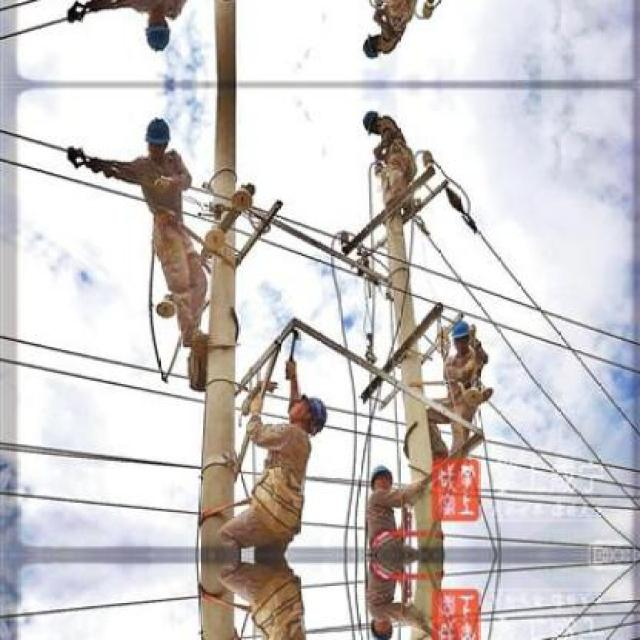helmet: (283, 389, 335, 433), (140, 116, 171, 159), (140, 11, 171, 54), (368, 462, 392, 496), (358, 29, 384, 60), (452, 319, 474, 355), (358, 110, 384, 140), (368, 614, 394, 637)
